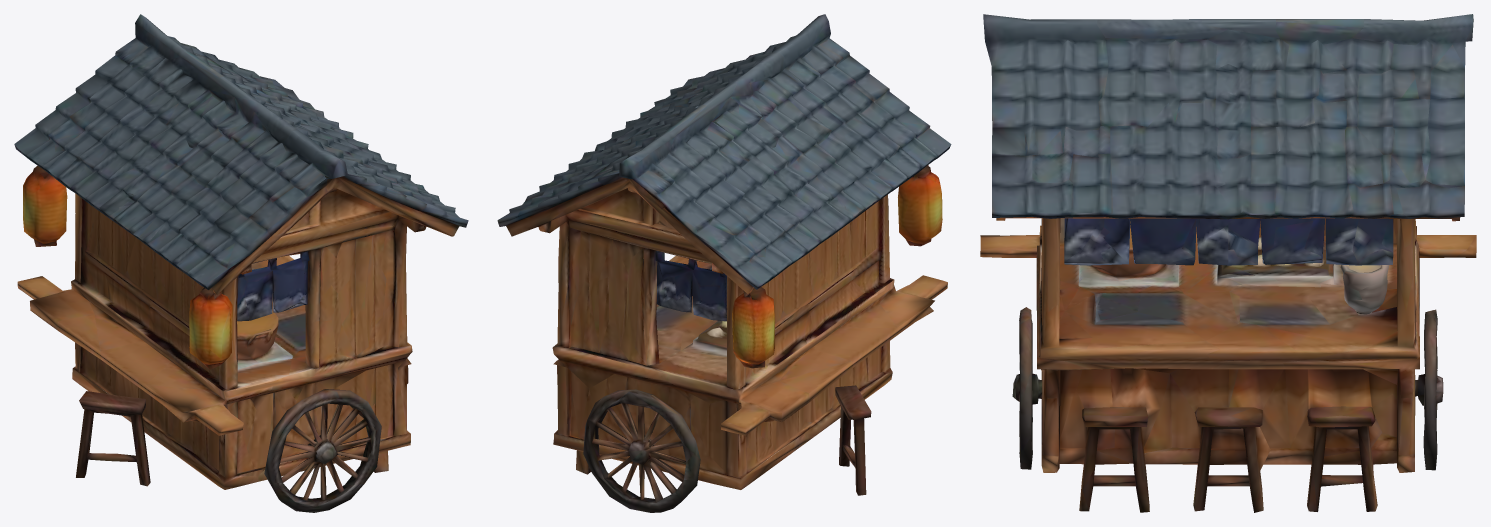
File: au_env_ramen_stall.glb
The picture shows the model from 3 angles, left to right: view 1: azimuth 30°, elevation 25°; view 2: azimuth 150°, elevation 25°; view 3: azimuth 270°, elevation 25°; orthographic projection. The views are drawn at different scales.
Visible parts, largest first — view 1: tripo_node_2e98eb2f-fe00-429c-a952-24c5b141ea33; view 2: tripo_node_2e98eb2f-fe00-429c-a952-24c5b141ea33; view 3: tripo_node_2e98eb2f-fe00-429c-a952-24c5b141ea33.
Boxes of the visible parts, x1,y1,x2,y2 form: tripo_node_2e98eb2f-fe00-429c-a952-24c5b141ea33: [14, 14, 468, 512]; tripo_node_2e98eb2f-fe00-429c-a952-24c5b141ea33: [497, 14, 951, 512]; tripo_node_2e98eb2f-fe00-429c-a952-24c5b141ea33: [980, 14, 1476, 512].
Bounding box in the file's own units: 0.8086 × 0.9763 × 0.9787.
1 material, 1 textured.
